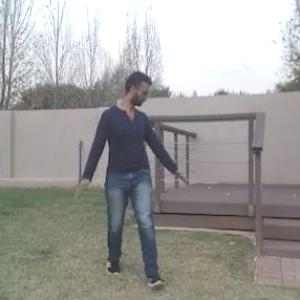land: (72, 65, 195, 286)
